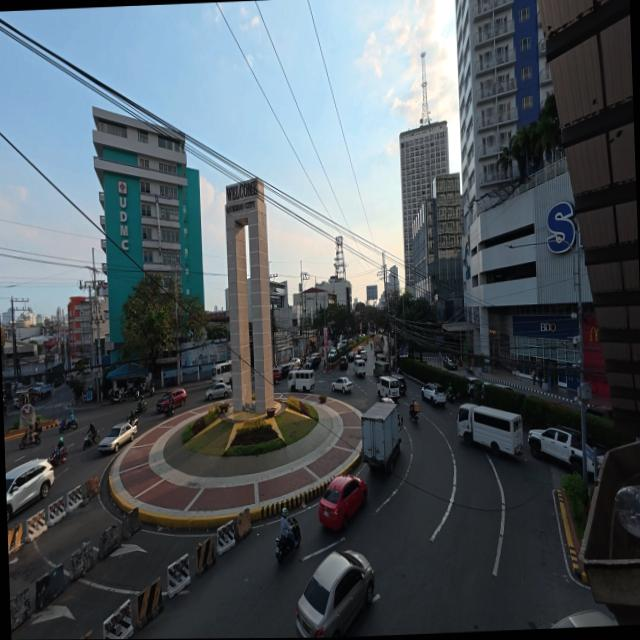car: (295, 547, 380, 638), (96, 420, 138, 454), (286, 369, 316, 392), (203, 380, 232, 401), (330, 376, 354, 395)
trucks: (357, 398, 402, 472)
